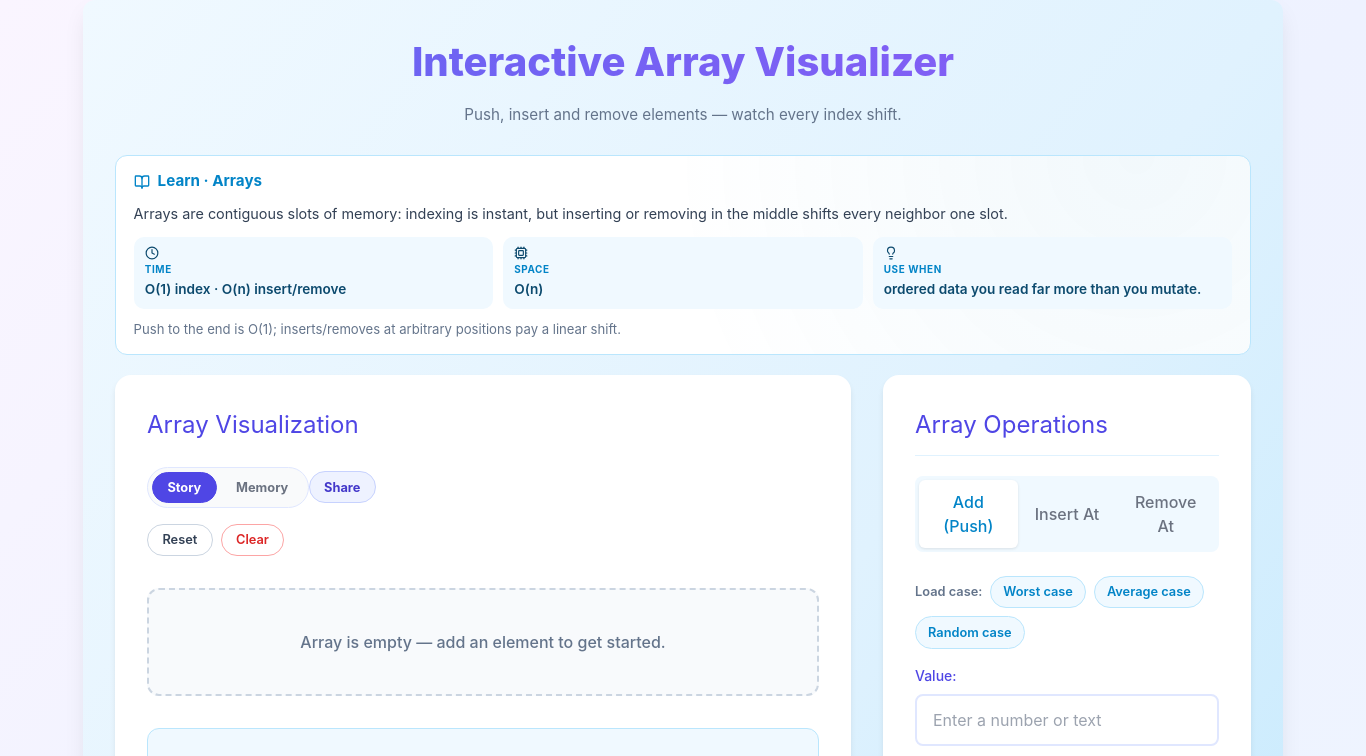
it: keyboard submit (Enter) › submitting the operation form runs the active operation
In the field with placeholder "Enter a number or text": (1067, 720) [915,694,1219,746], type "5"
(page scrolled)
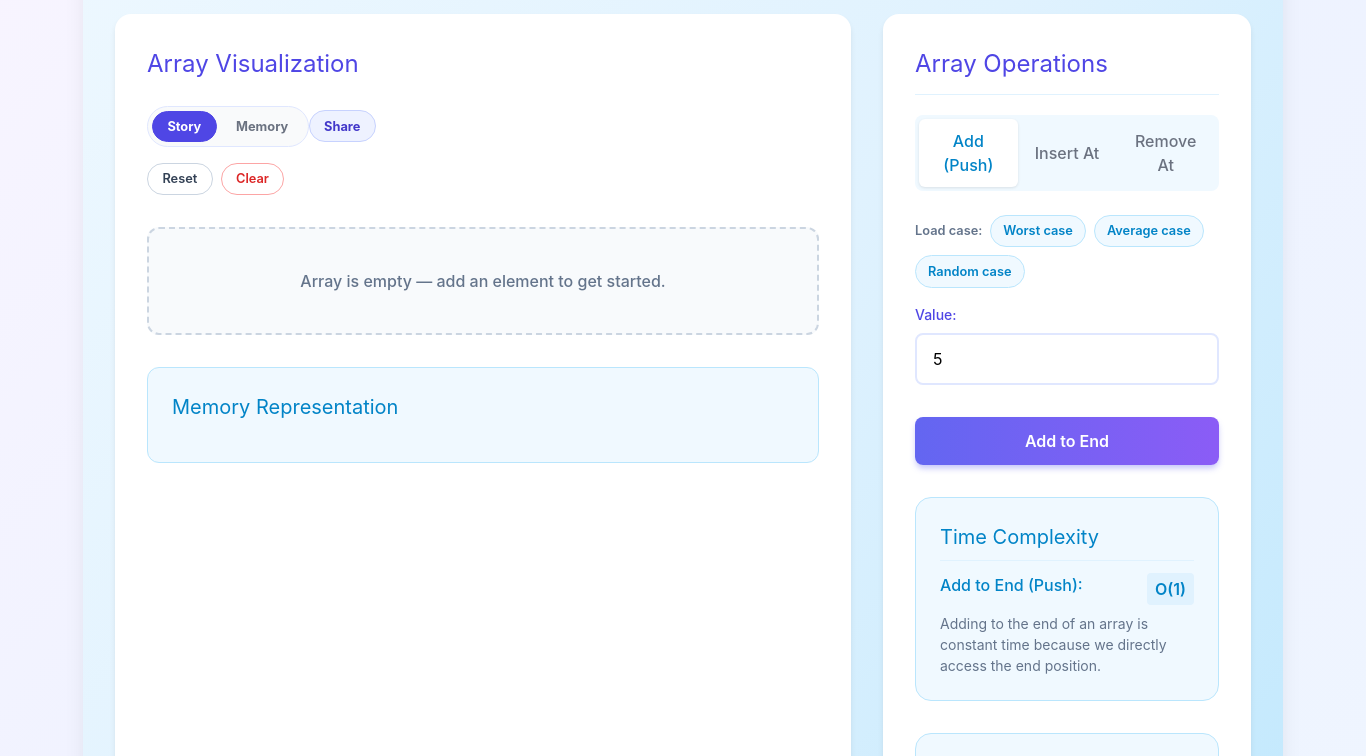
Submit the form with class "operation-inputs", box [915,304,1219,465]
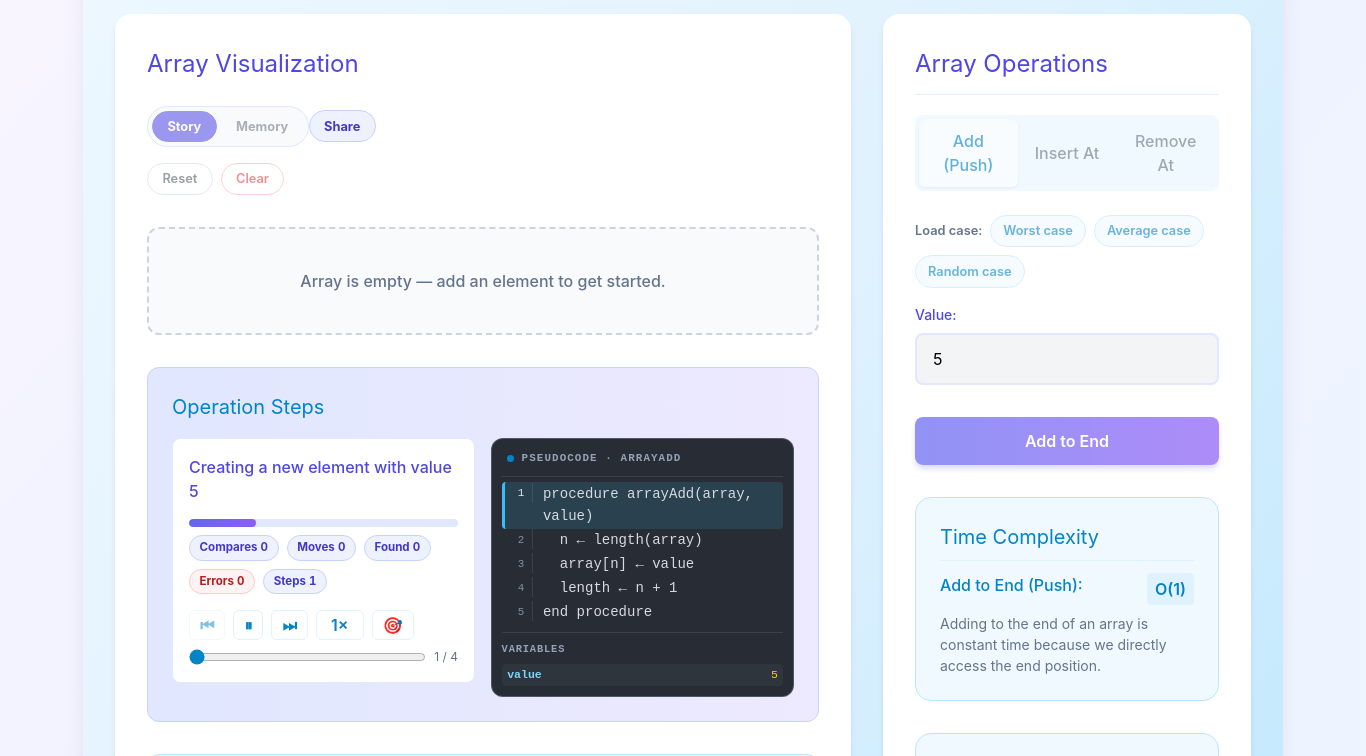
Check: the element with class "code-pane" is shown, box [491,438,794,696]
